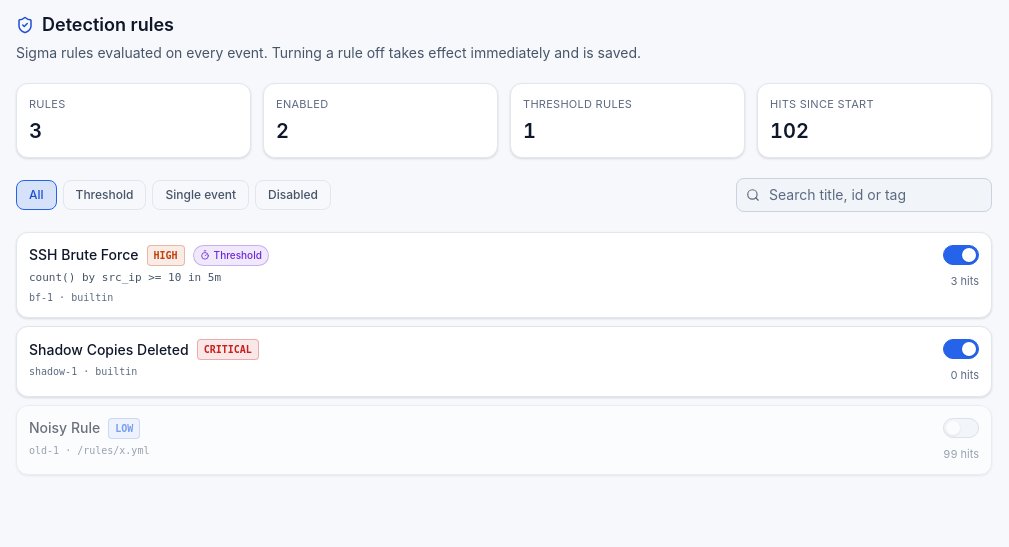
Rules page › reports a failed update
Click the switch named "Disable SSH Brute Force": (961, 254) x1=943 y1=244 x2=979 y2=264
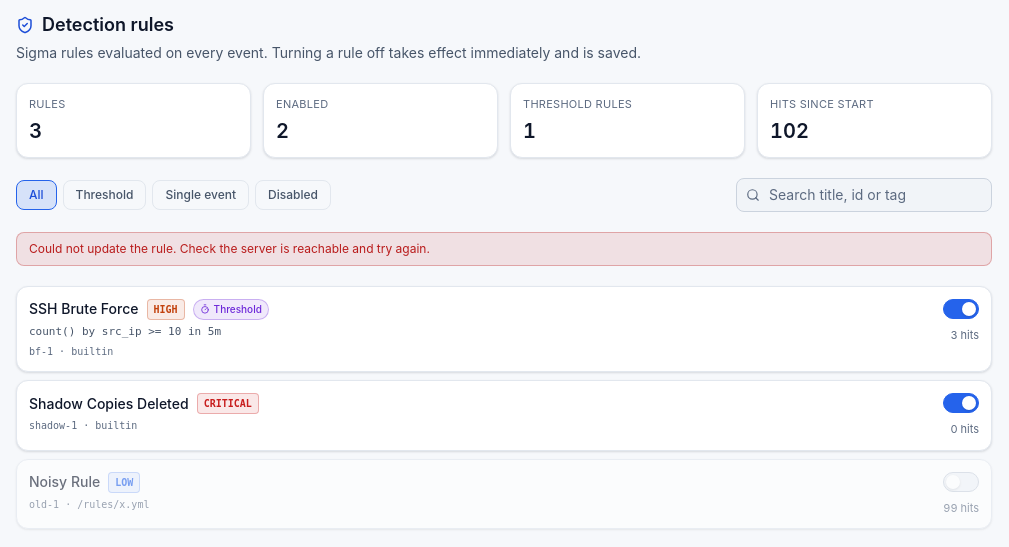
expect the message shows "Could not update the rule": met, box x1=29 y1=240 x2=430 y2=256
